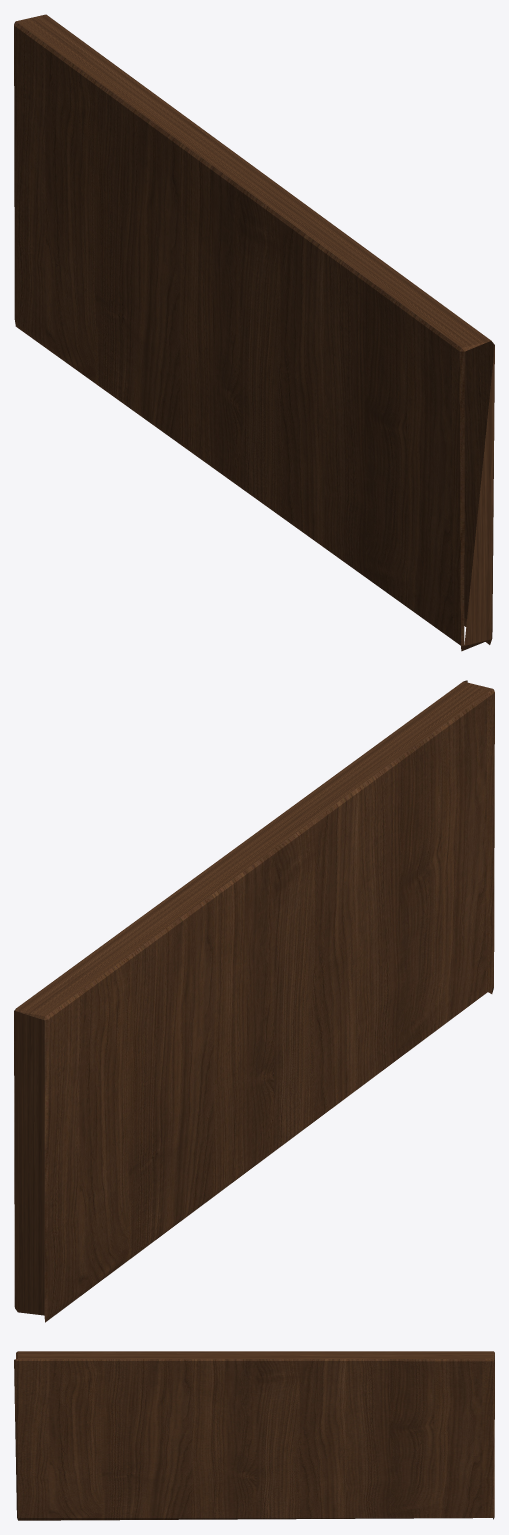
The model's file is modesty-04ffc8172707.glb.
3 views of the same model, one above another, from view 1: azimuth 30°, elevation 25°; view 2: azimuth 150°, elevation 25°; view 3: azimuth 270°, elevation 25° (orthographic). The views are drawn at different scales.
Parts seen in each view (by area): view 1: Object009; view 2: Object009; view 3: Object009.
Boxes of the visible parts, <box> form: Object009: <box>14,14,494,651</box>; Object009: <box>14,680,494,1322</box>; Object009: <box>14,1351,494,1520</box>.
Size of the model in its own units: 0.018 by 0.1531 by 0.4099.
Materials: 1 (1 with a texture image).
